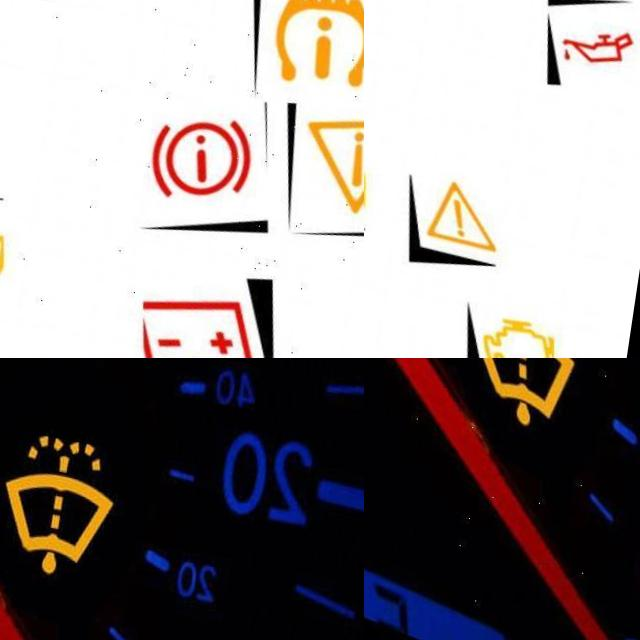Washer Fluid: (7, 417, 127, 569), (466, 358, 588, 412)
